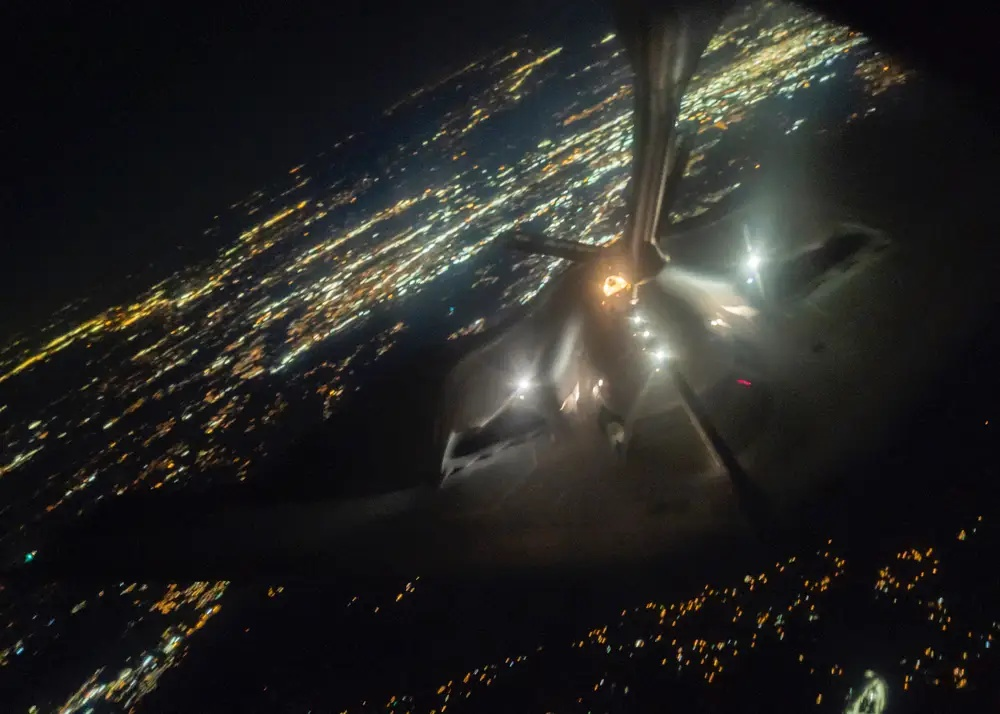B2: (1, 85, 1000, 570)
